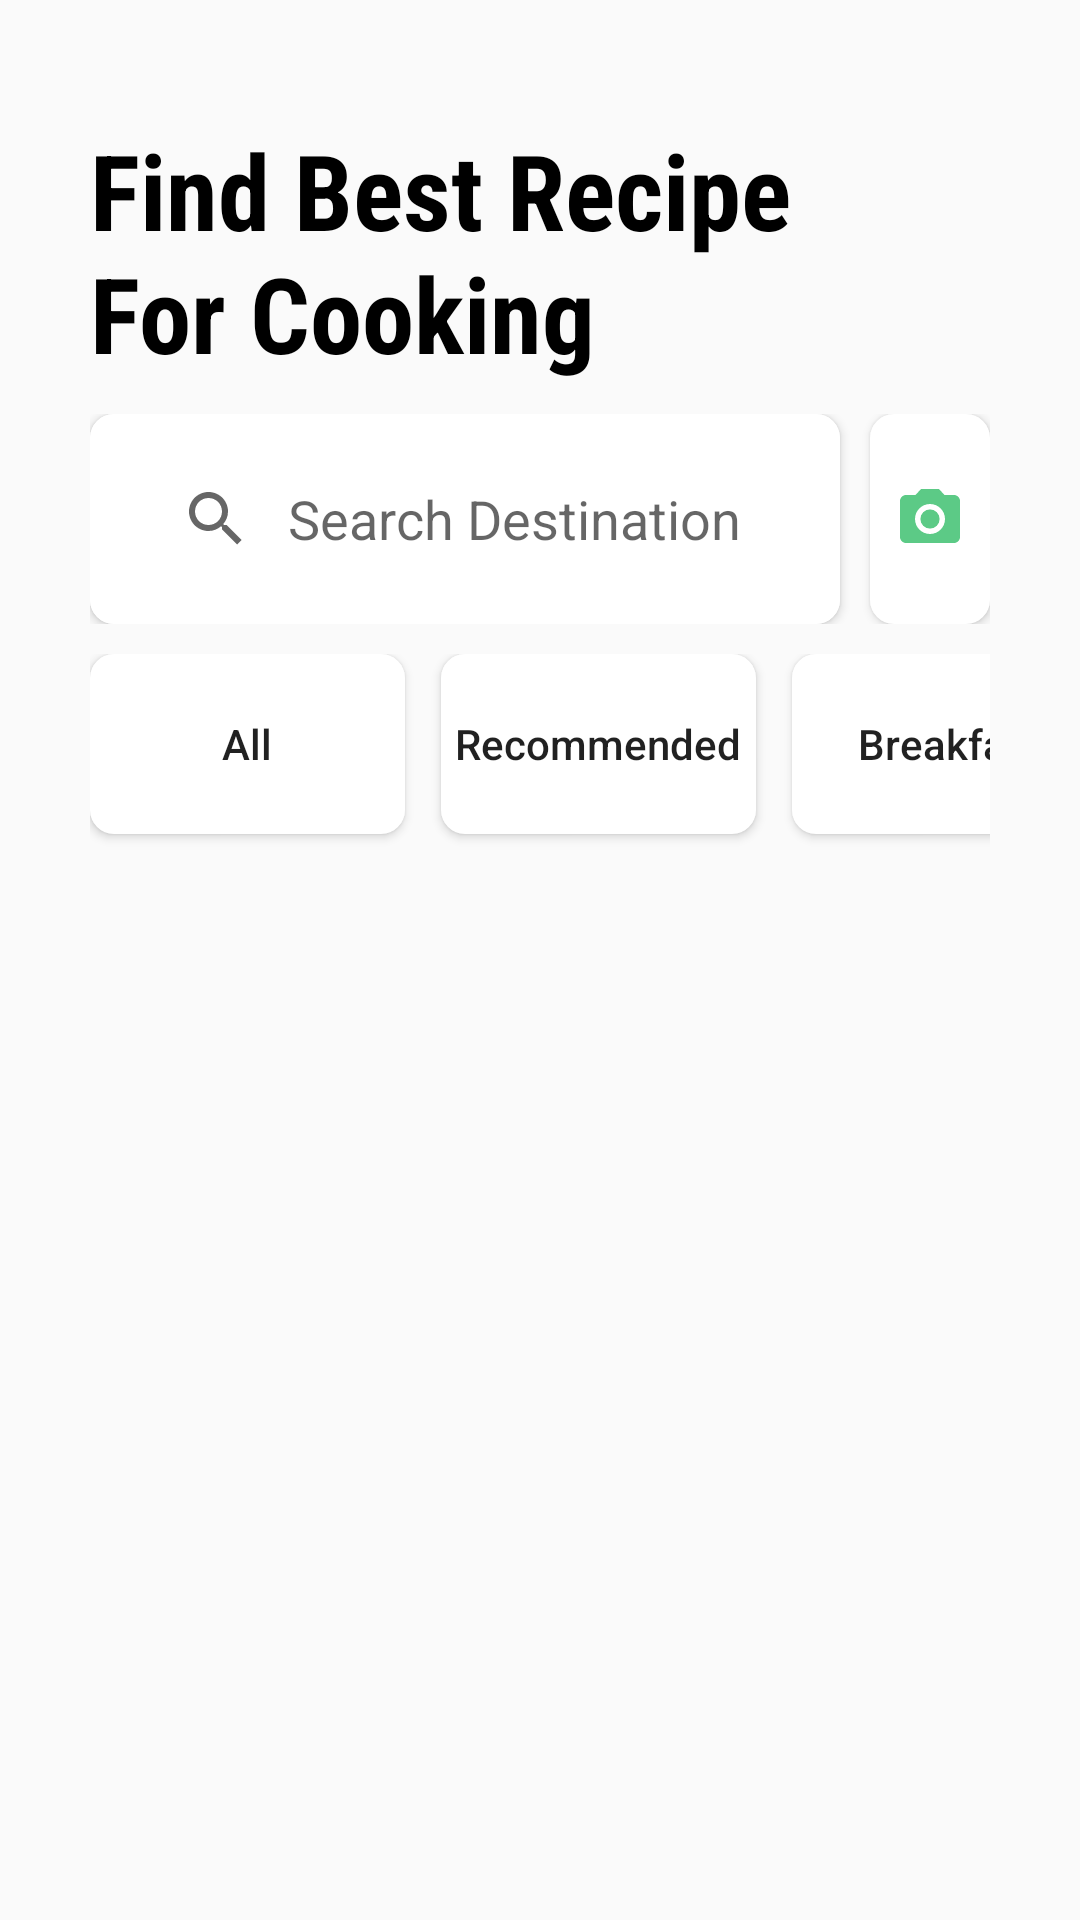

Locate icon controls on the screen. Image size 1080px x 1920px, boxes as [x1,y1,x2,y2].
camera: [870,417,990,624]
